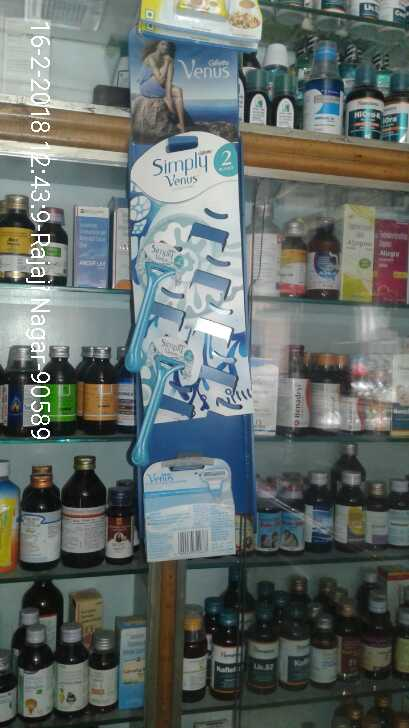venus: (122, 141, 256, 469)
